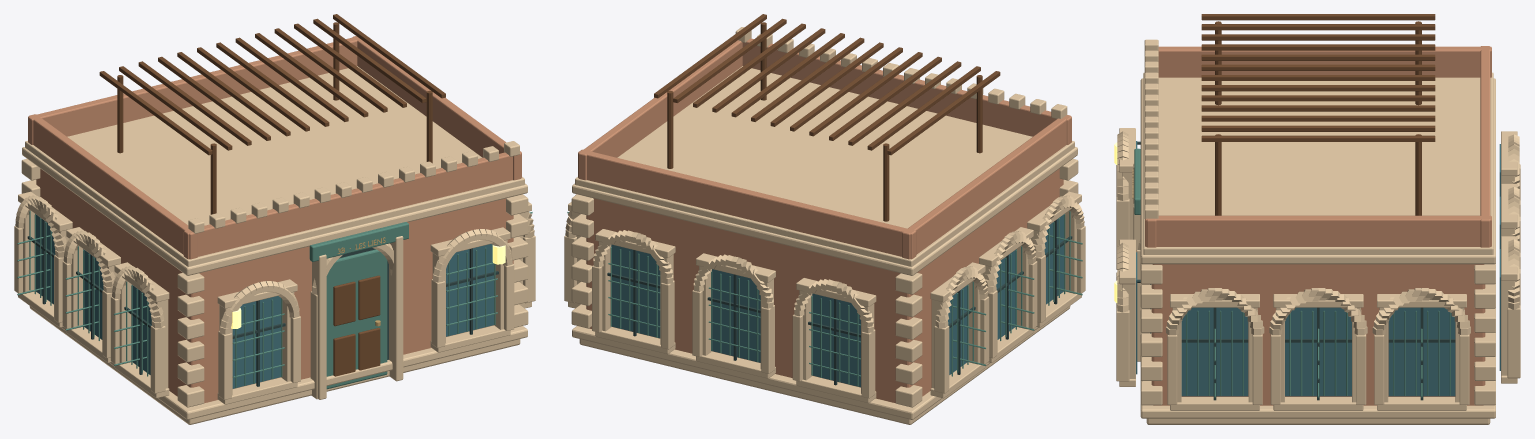
File: maroc-1.glb
The picture shows the model from 3 angles, left to right: view 1: azimuth 30°, elevation 25°; view 2: azimuth 150°, elevation 25°; view 3: azimuth 270°, elevation 25°; orthographic projection. The views are drawn at different scales.
Visible parts, largest first — view 1: maroc-1_Dressed stone.005, maroc-1_Masonry plaster.005, maroc-1_Walnut, maroc-1_Regional painted wood.005, maroc-1_Window blue, maroc-1_Forged midnight; view 2: maroc-1_Dressed stone.005, maroc-1_Masonry plaster.005, maroc-1_Walnut, maroc-1_Window blue, maroc-1_Regional painted wood.005, maroc-1_Forged midnight; view 3: maroc-1_Dressed stone.005, maroc-1_Masonry plaster.005, maroc-1_Walnut, maroc-1_Window blue, maroc-1_Regional painted wood.005, maroc-1_Forged midnight.
Part boxes in pixels (x1,y1,x2,y2): maroc-1_Dressed stone.005: (14,66,535,424); maroc-1_Masonry plaster.005: (28,36,521,403); maroc-1_Walnut: (99,14,445,376); maroc-1_Regional painted wood.005: (17,211,532,389); maroc-1_Window blue: (35,214,493,388); maroc-1_Forged midnight: (27,219,498,386); maroc-1_Dressed stone.005: (564,27,1085,424); maroc-1_Masonry plaster.005: (578,38,1071,403); maroc-1_Walnut: (654,14,1000,221); maroc-1_Window blue: (611,214,1064,387); maroc-1_Regional painted wood.005: (567,211,1082,386); maroc-1_Forged midnight: (607,219,1072,385); maroc-1_Dressed stone.005: (1116,39,1520,424); maroc-1_Masonry plaster.005: (1145,46,1491,405); maroc-1_Walnut: (1201,14,1435,215); maroc-1_Window blue: (1136,141,1500,396); maroc-1_Regional painted wood.005: (1134,148,1450,397); maroc-1_Forged midnight: (1137,141,1455,400).
Size of the model in its own units: 15.5 by 8.67 by 12.18.
